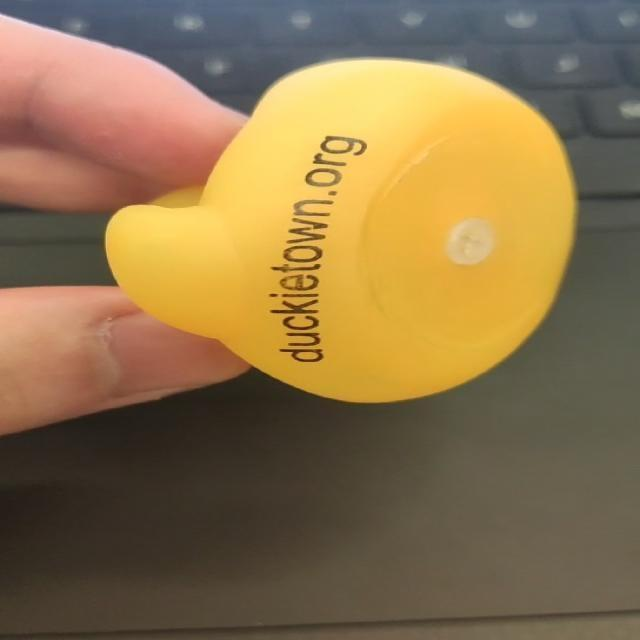rubber-duck: (105, 58, 574, 400)
